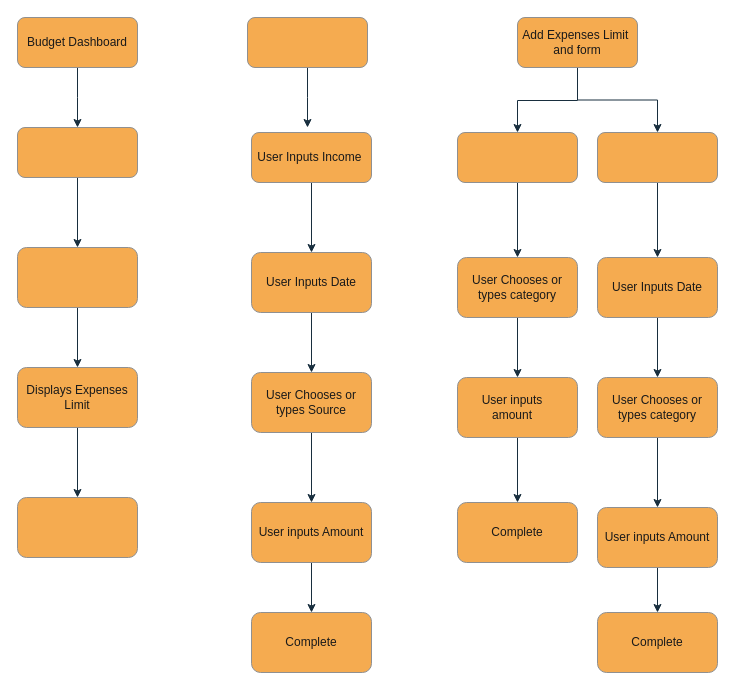
Some shapes in this 735 by 690 pixel diagram are drawn without their labels. The centre of each missing label's shape, as x and y in pixels:
Add Income Form: point (307, 42)
Displays Current expenses: point (77, 527)
Displays Income vs Expenses and savings: point (77, 277)
Displays Summary: point (77, 152)
User chooses to input Expenses limit: point (517, 157)
User chooses to input new, edit or delete expenses: point (657, 157)
